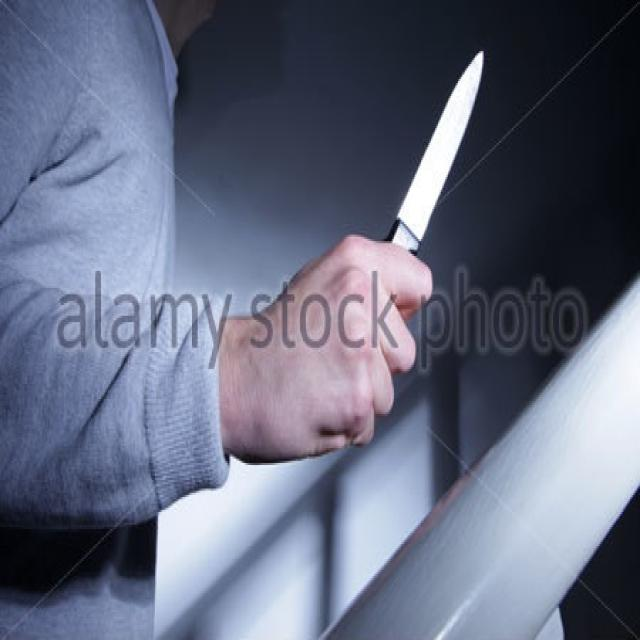knife: (392, 47, 489, 255)
